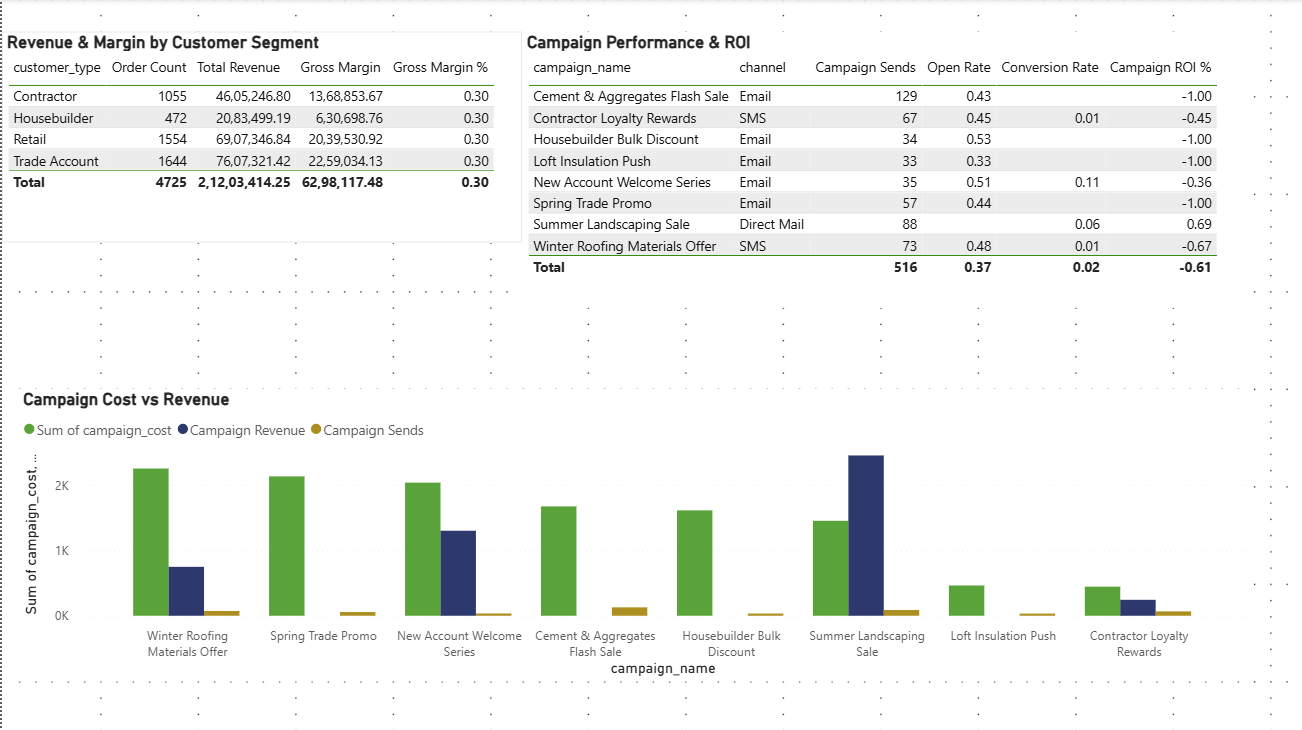

The page's visual inventory and layout, read from the dashboard file:
{"tool":"powerbi","page":{"name":"Segmentation & Campaigns","canvas":[1280,720],"ordinal":1},"visuals":[{"type":"tableEx","title":"Revenue & Margin by Customer Segment","fields":{"Values":["customers.customer_type","DateTable.Order Count","DateTable.Total Revenue","DateTable.Gross Margin","DateTable.Gross Margin %"]},"box":[0,32,512,208],"z":0},{"type":"tableEx","title":"Campaign Performance & ROI ","fields":{"Values":["campaigns.campaign_name","campaigns.channel","DateTable.Campaign Sends","DateTable.Open Rate","DateTable.Conversion Rate","DateTable.Campaign ROI %"]},"box":[512,32,720,272],"z":1000},{"type":"clusteredColumnChart","title":"Campaign Cost vs Revenue","fields":{"Y":["Sum(campaigns.campaign_cost)","DateTable.Campaign Revenue","DateTable.Campaign Sends"],"Category":["campaigns.campaign_name"]},"box":[16,384,1216,288],"z":1001}]}

Visuals, with their boxes in screenshot pixels (x1, y1, x2, y2), scaled from the page's 1280x720 canvas onto the 1302x730 screenshot:
"Revenue & Margin by Customer Segment" tableEx: bbox=(0, 32, 521, 243)
"Campaign Performance & ROI " tableEx: bbox=(521, 32, 1253, 308)
"Campaign Cost vs Revenue" clusteredColumnChart: bbox=(16, 389, 1253, 681)
